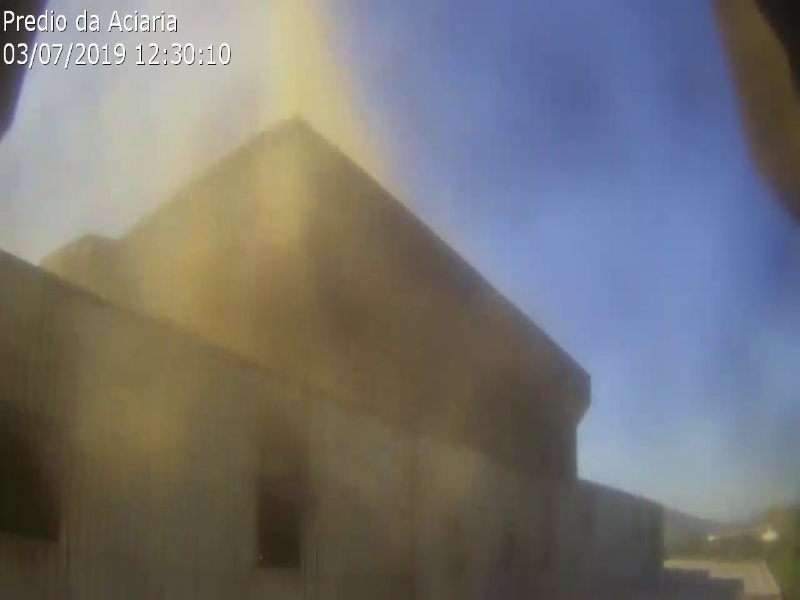Pessimo: (245, 1, 330, 114), (136, 223, 235, 281), (158, 262, 257, 320), (209, 182, 308, 240), (240, 301, 339, 359), (241, 217, 340, 275), (250, 237, 349, 295), (101, 348, 200, 406), (368, 424, 467, 482), (239, 134, 338, 192), (81, 159, 180, 217), (135, 131, 234, 189)
